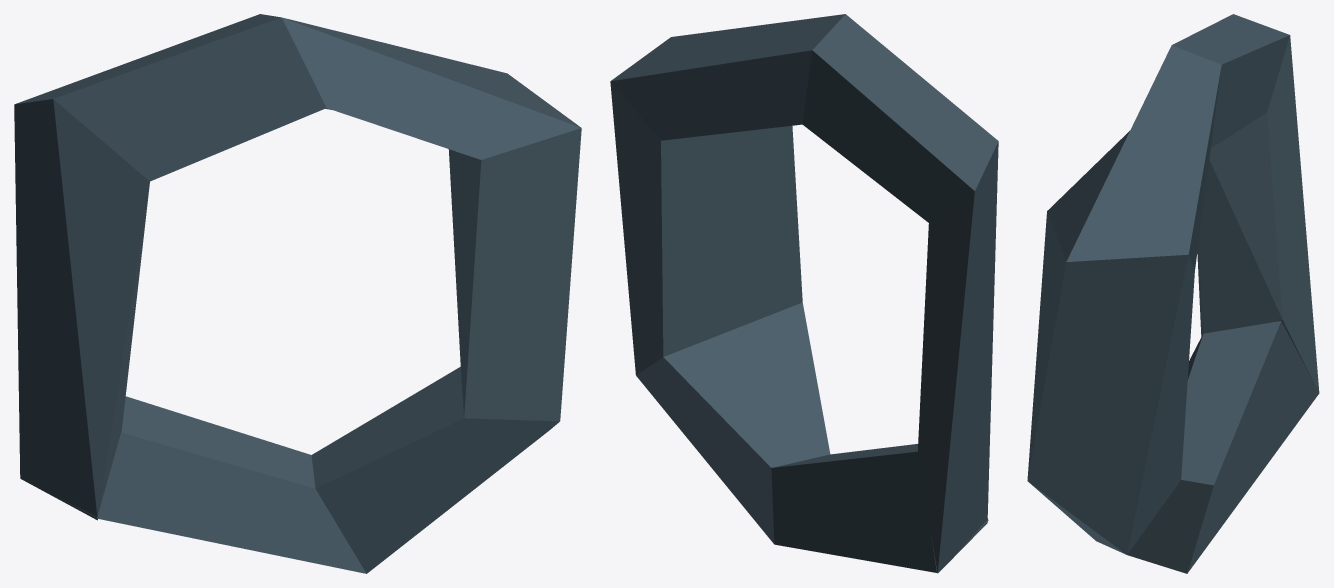
The model's file is lowercase-m.glb.
3 renders of one model, left to right at view 1: azimuth 30°, elevation 25°; view 2: azimuth 150°, elevation 25°; view 3: azimuth 270°, elevation 25°, orthographic. The views are drawn at different scales.
Size of the model in its own units: 0.2055 by 0.2483 by 0.1314.
